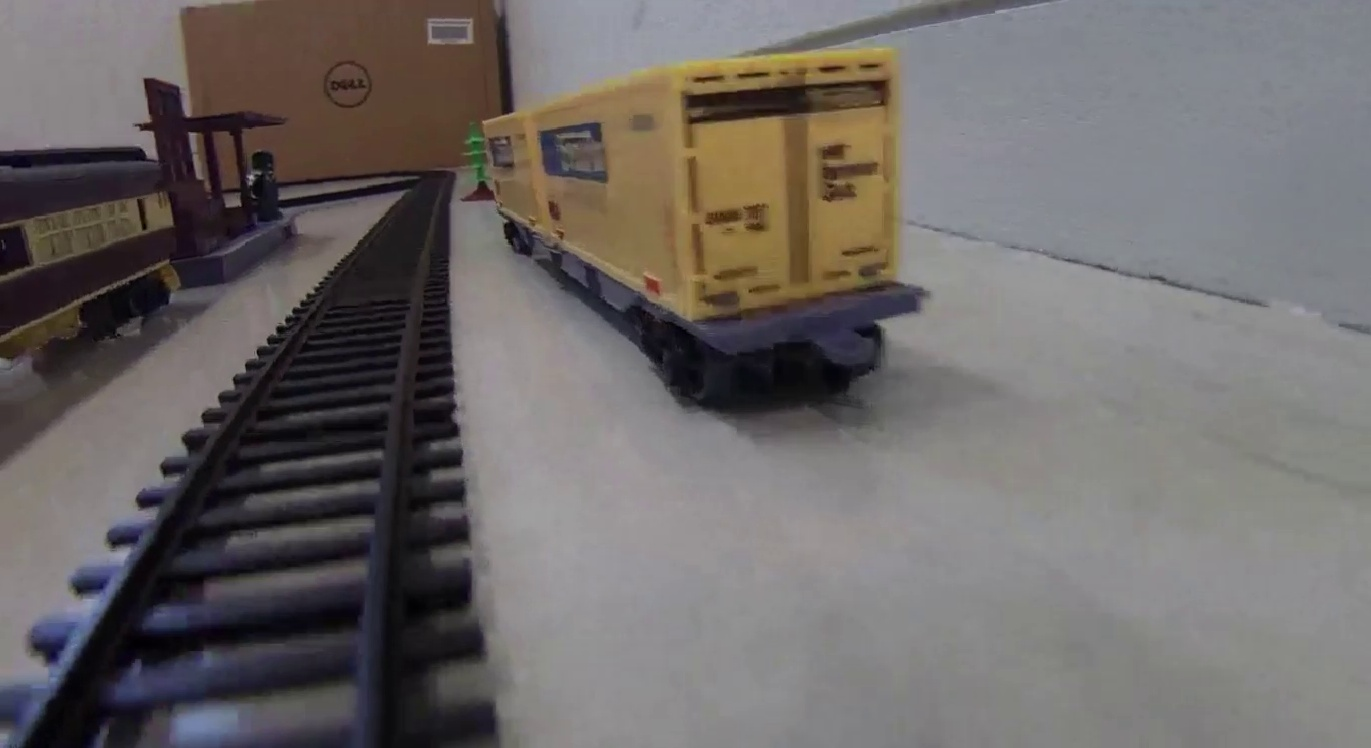people: (247, 152, 280, 222)
